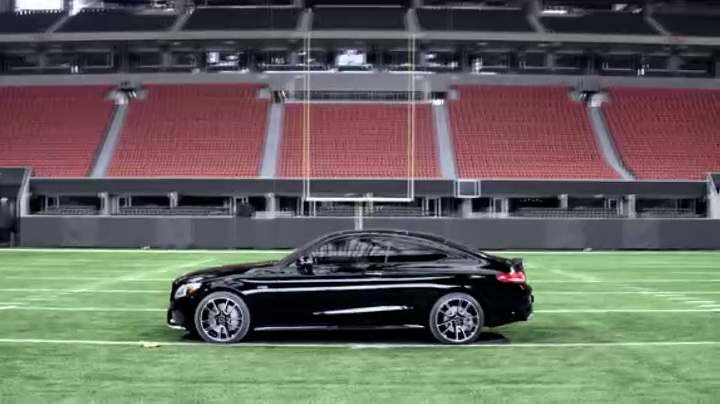amg: (168, 228, 534, 347)
